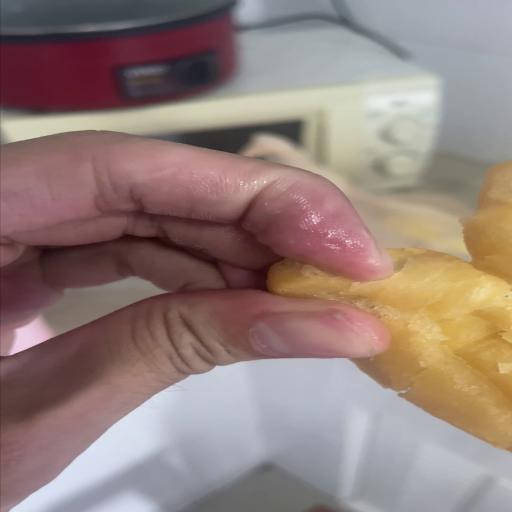street_golden_defect: (270, 248, 512, 449), (478, 168, 512, 228)
